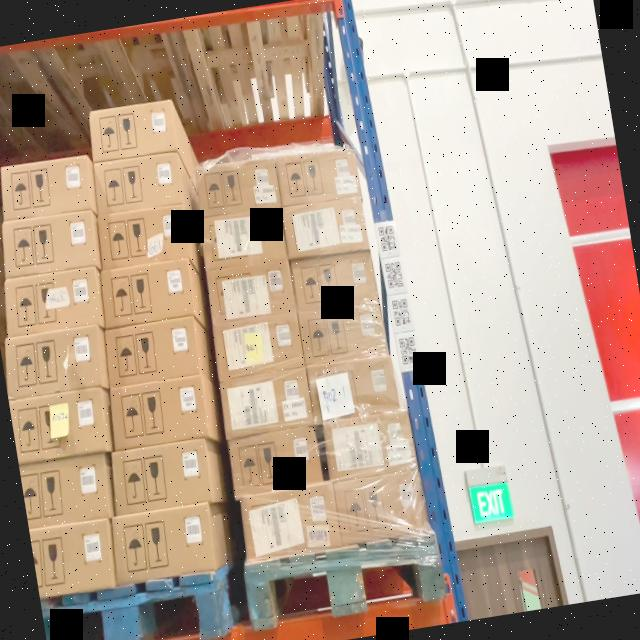box: (112, 502, 217, 584), (240, 484, 343, 562), (112, 439, 213, 514), (110, 376, 208, 451), (333, 468, 429, 544), (5, 327, 102, 399), (229, 428, 325, 499), (5, 268, 102, 337), (105, 317, 199, 388), (220, 370, 313, 439), (2, 212, 96, 280), (324, 411, 416, 478), (102, 262, 195, 327), (308, 358, 399, 424), (1, 157, 91, 223), (213, 315, 303, 379), (99, 205, 189, 267), (207, 262, 295, 325), (90, 100, 179, 162), (300, 301, 386, 364), (94, 153, 183, 213), (199, 210, 288, 269), (282, 199, 368, 260), (293, 252, 379, 312), (196, 161, 282, 217), (279, 151, 359, 207)
